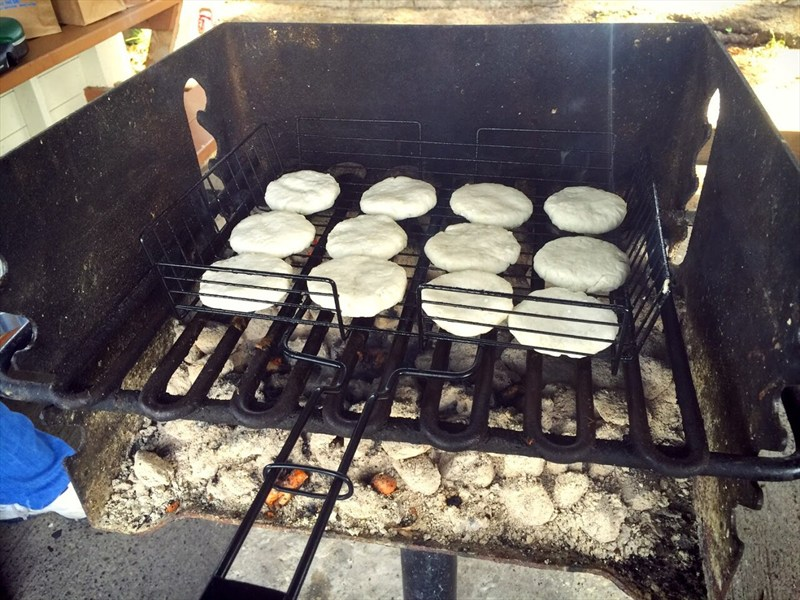Pempek: (97, 24, 643, 546)
